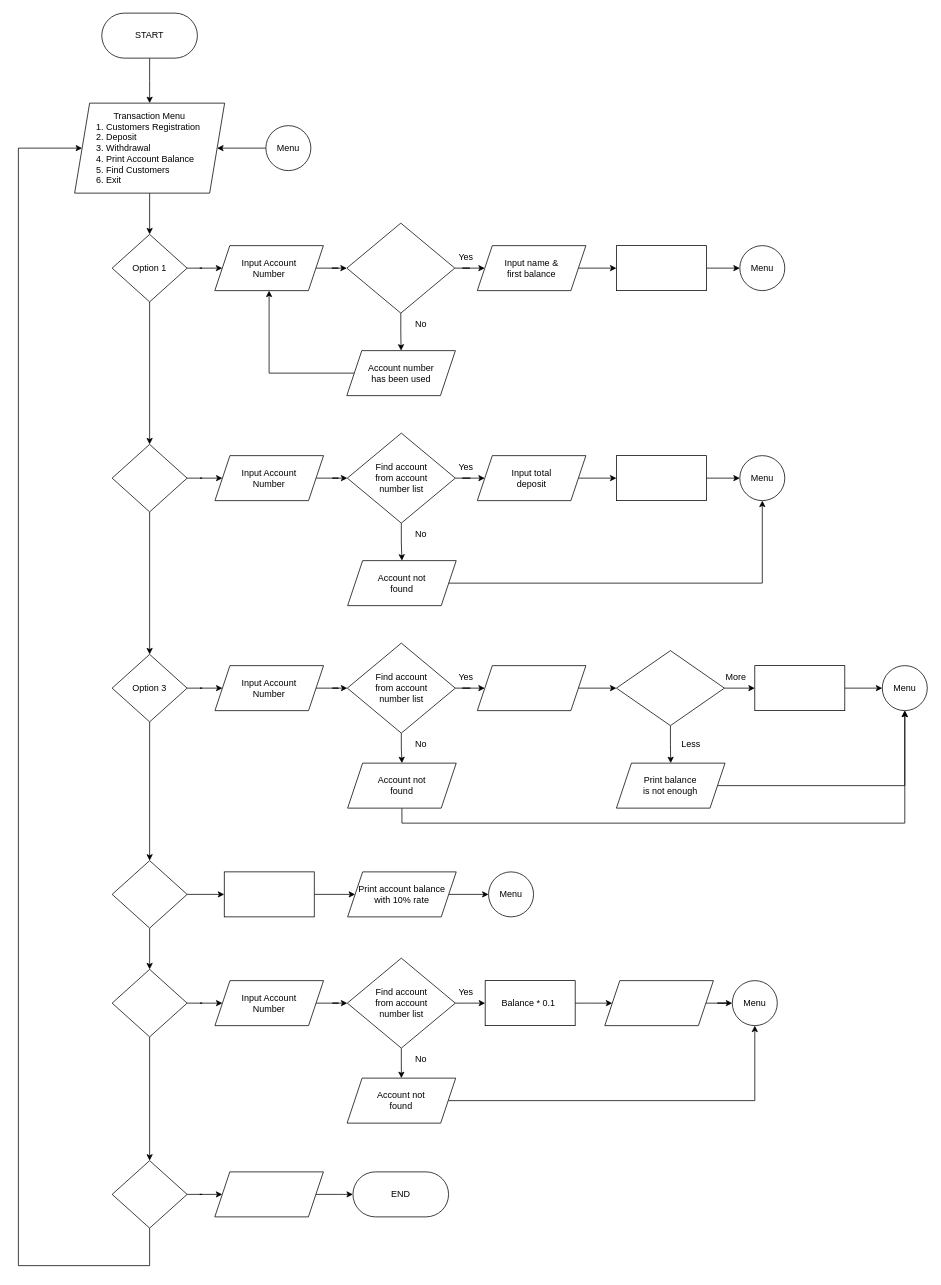
This 941x1285 diagram has some shape labels left out. The centre of each missing label's shape, as x and y in pixels:
Add deposit to account balance: point 661,478
Add new account to list: point 661,268
Cut deposit from account balance: point 799,688
if(norek) ketemu=true else ketemu=false: point 400,267
Input total withdraw: point 531,688
Option 2: point 149,478
Option 4: point 149,894
Option 5: point 149,1003
Option 6: point 149,1194
Print customers account data: point 658,1003
Print thank you messages: point 268,1194
Total balance = (Balance * 0.1): point 269,894
Total withdraw <Balance>: point 670,688
